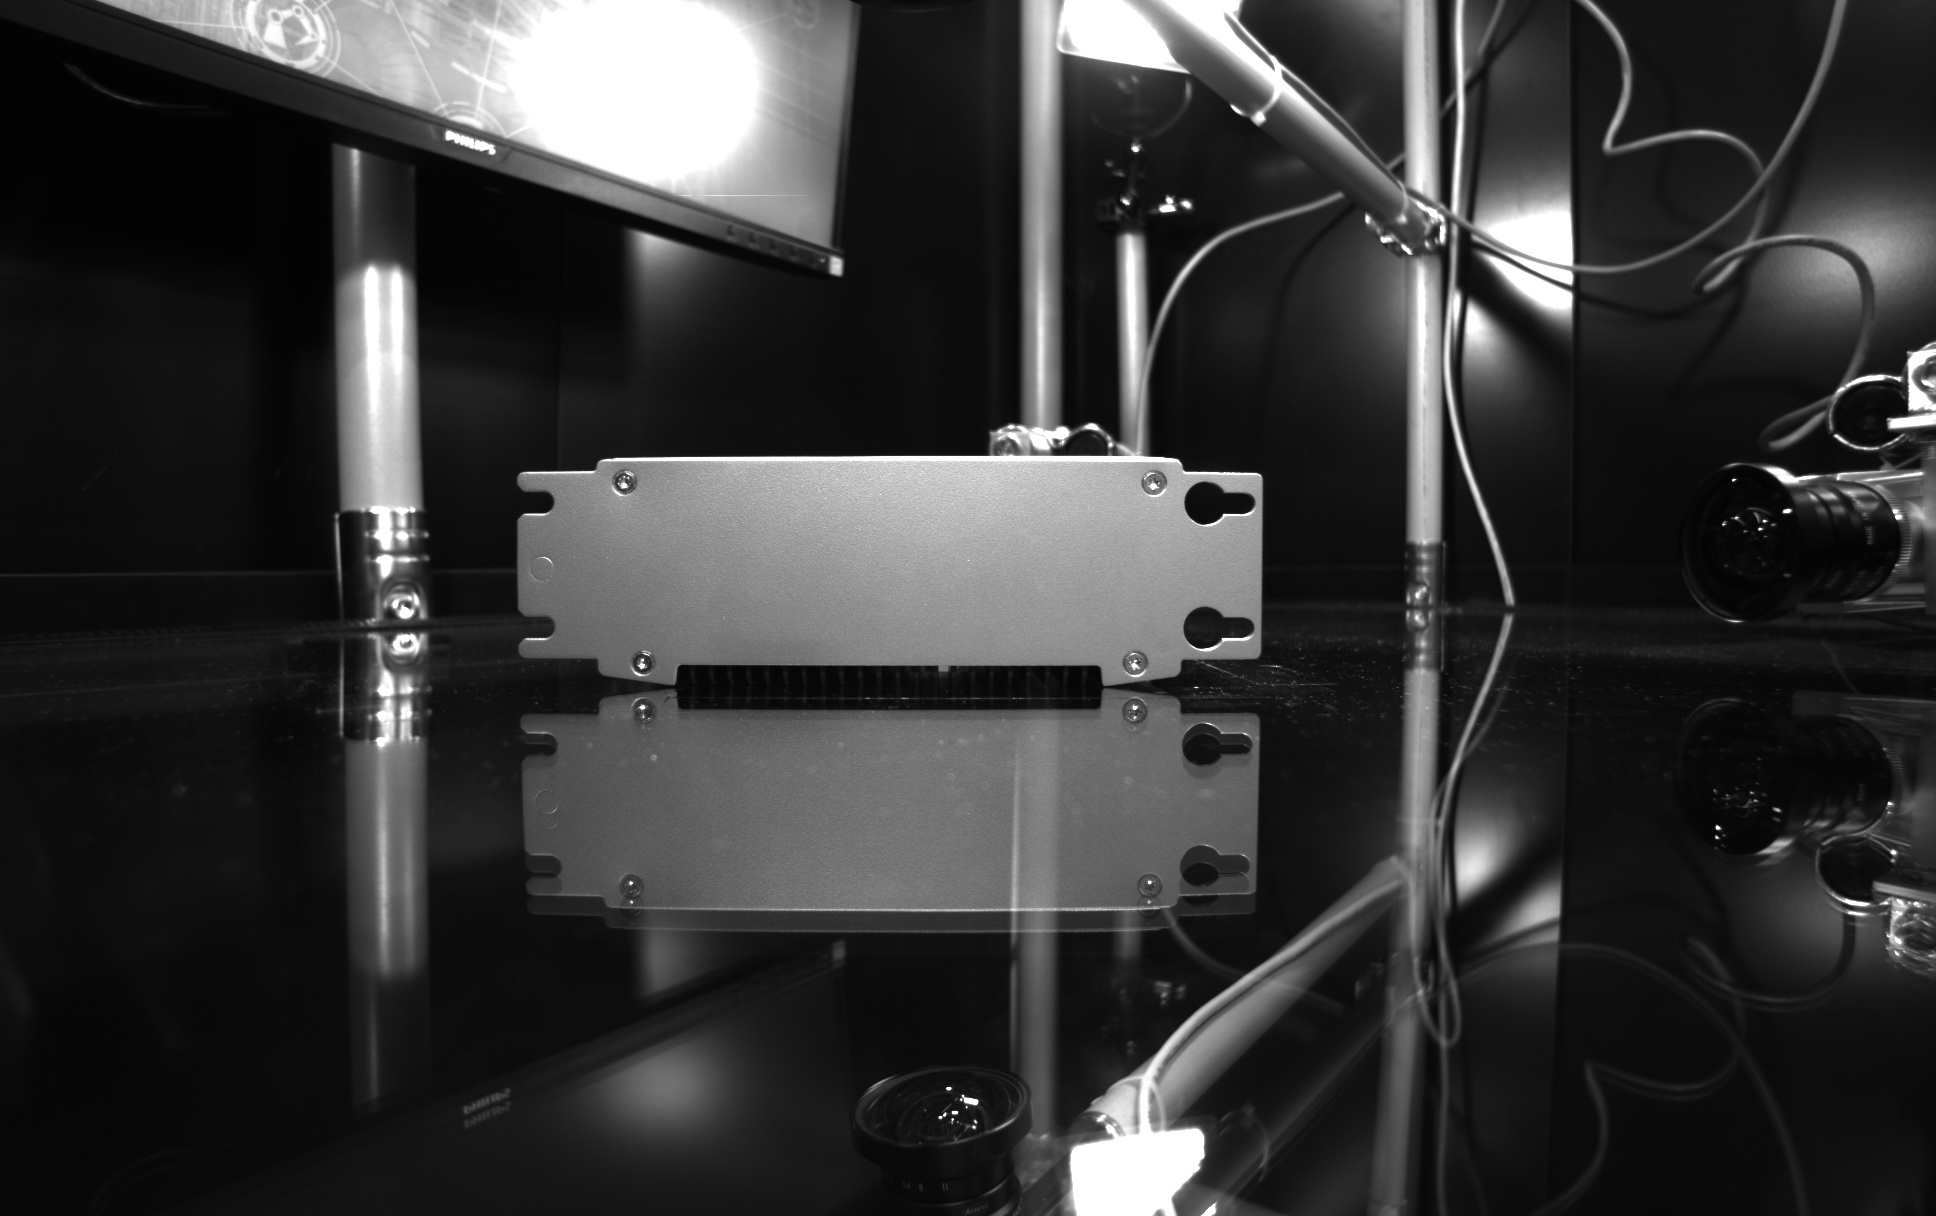CamBack: (490, 431, 1292, 684)
Schraube: (1133, 462, 1175, 504), (623, 642, 665, 682), (607, 465, 644, 503), (1115, 643, 1153, 681)
Schraube_gespiegelt: (1129, 870, 1170, 926), (614, 867, 651, 925), (625, 693, 663, 747), (1114, 696, 1152, 742)
